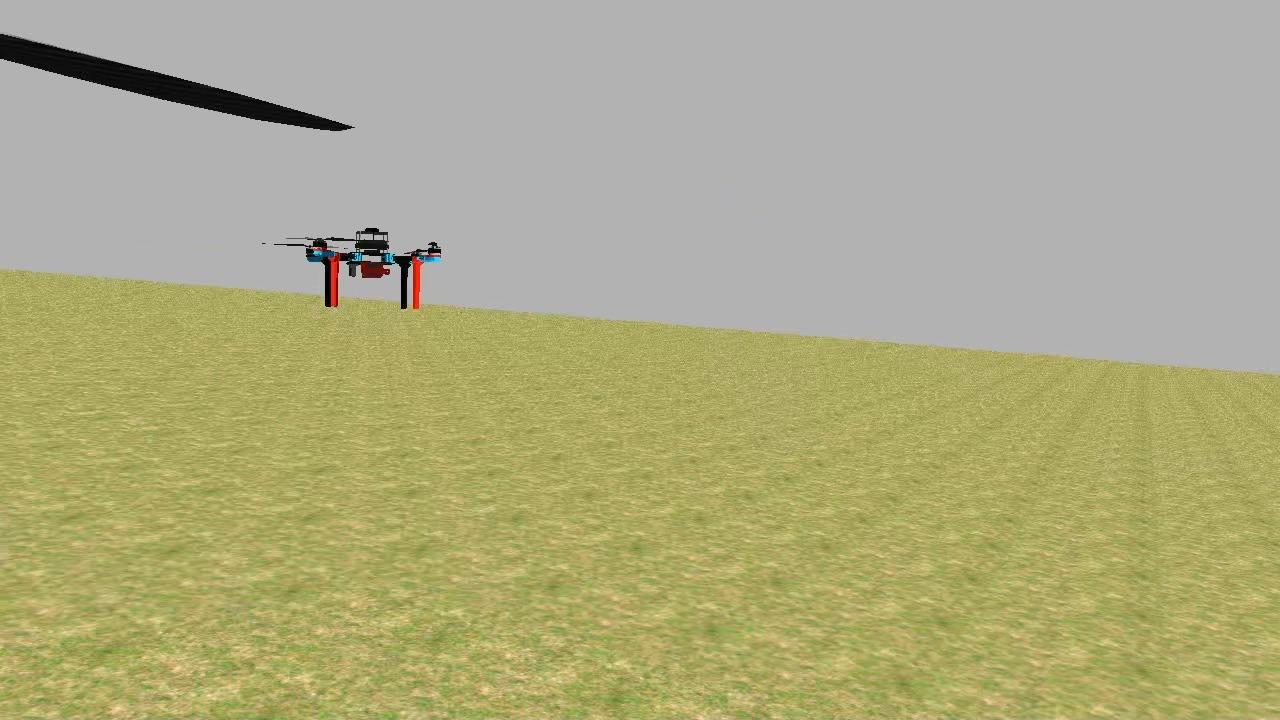UAV: (296, 216, 450, 318)
